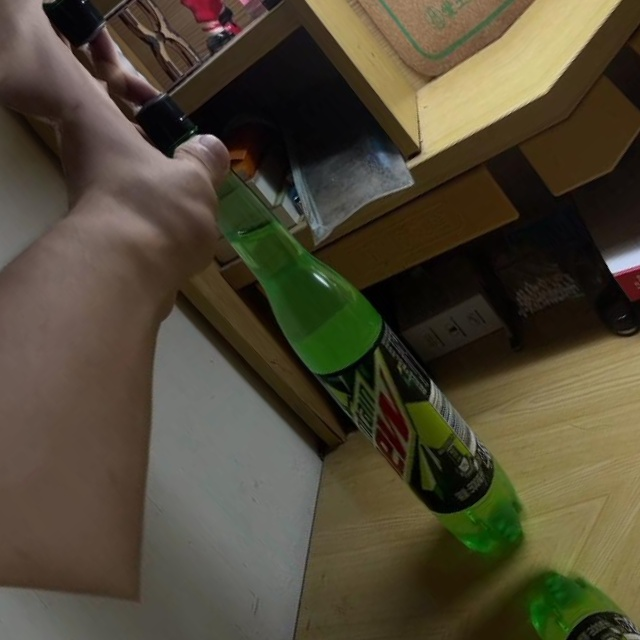Mountain-Dew: (109, 74, 551, 577)
